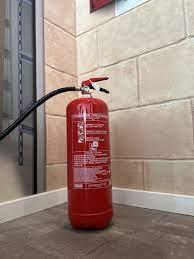floor-kept: (39, 63, 134, 253)
